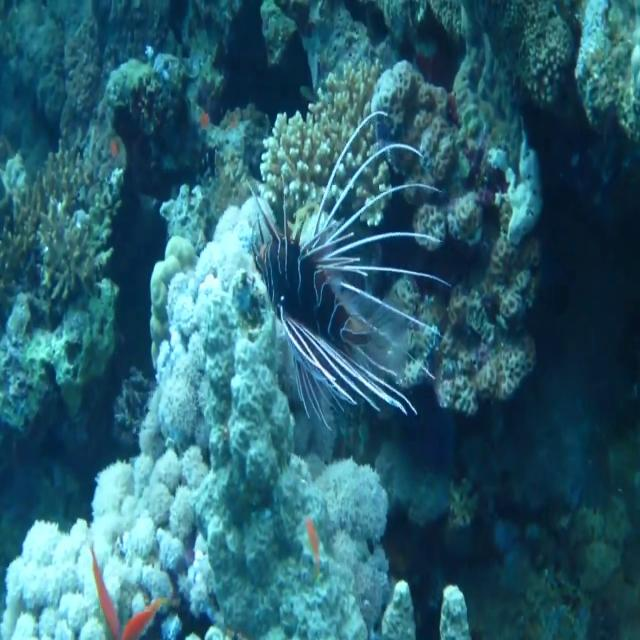Aslan Baligi: (245, 107, 452, 432)
